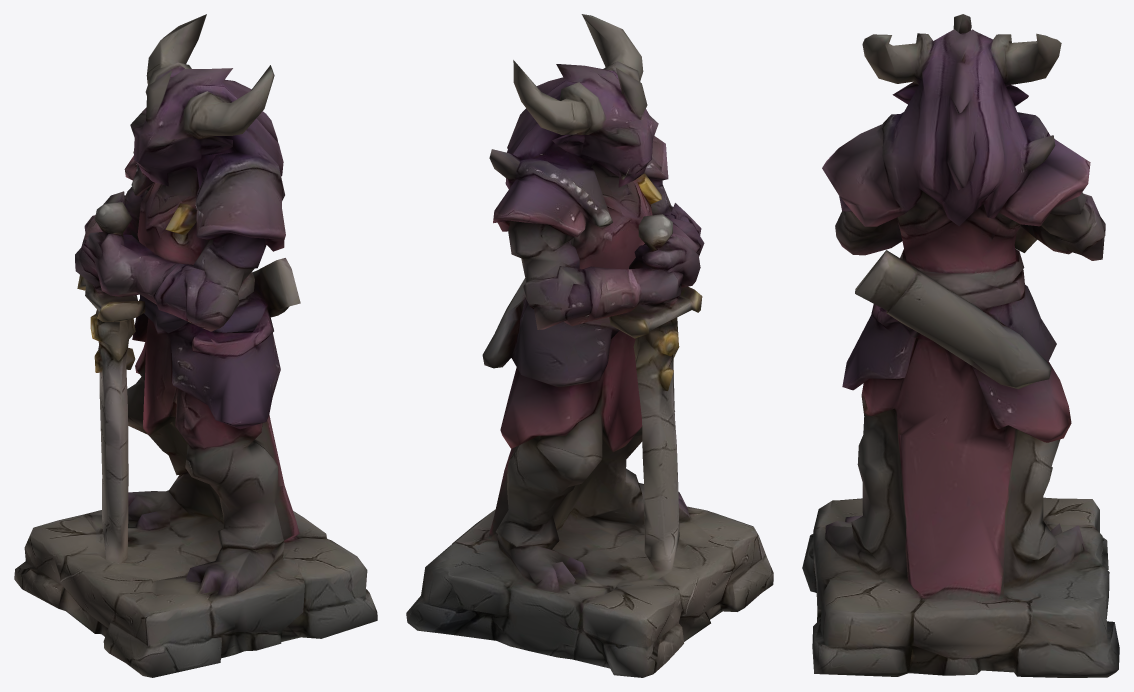
File: demon-statue.glb
3 views of the same model, side by side, from view 1: azimuth 30°, elevation 25°; view 2: azimuth 150°, elevation 25°; view 3: azimuth 270°, elevation 25° (orthographic). The views are drawn at different scales.
Parts seen in each view (by area): view 1: tripo_node_f9d8bc2a-21e9-4574-83bc-e001f445420c; view 2: tripo_node_f9d8bc2a-21e9-4574-83bc-e001f445420c; view 3: tripo_node_f9d8bc2a-21e9-4574-83bc-e001f445420c.
Part boxes in pixels (left/top/right/bottom): tripo_node_f9d8bc2a-21e9-4574-83bc-e001f445420c: left=14, top=14, right=377, bottom=677; tripo_node_f9d8bc2a-21e9-4574-83bc-e001f445420c: left=406, top=14, right=773, bottom=677; tripo_node_f9d8bc2a-21e9-4574-83bc-e001f445420c: left=802, top=14, right=1119, bottom=677.
Bounding box in the file's own units: 0.4585 × 0.9981 × 0.4729.
1 material, 1 textured.
